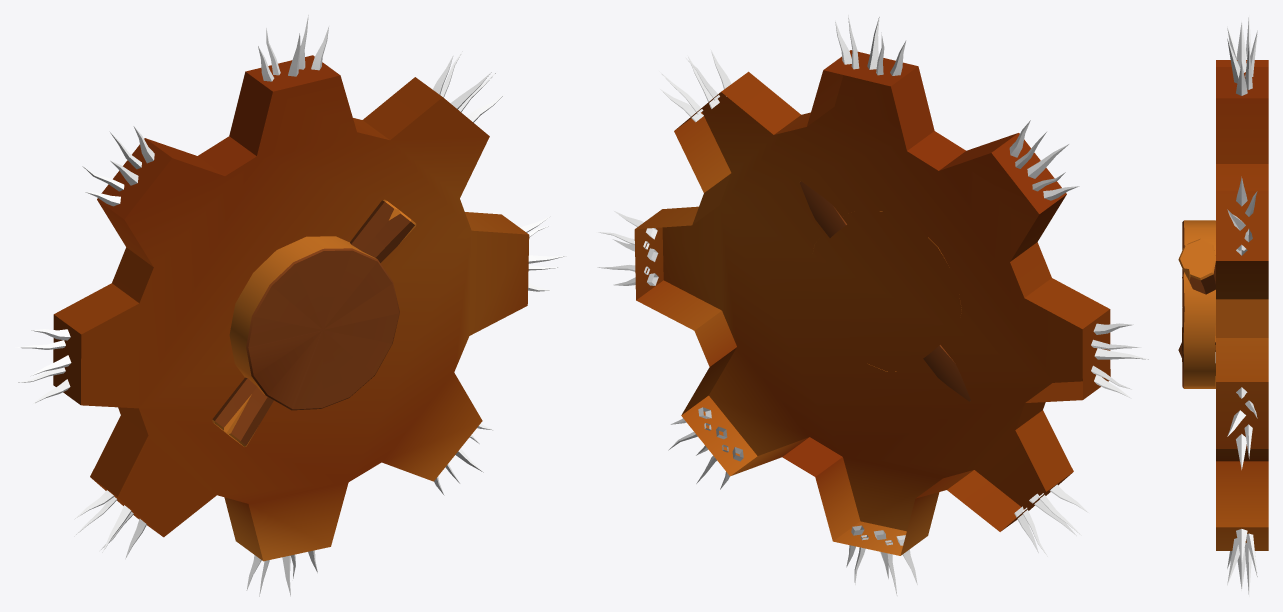
Rendered from Engranage.FBX.
3 renders of one model, left to right at view 1: azimuth 30°, elevation 25°; view 2: azimuth 150°, elevation 25°; view 3: azimuth 270°, elevation 25°, orthographic. The views are drawn at different scales.
Visible parts, largest first — view 1: Engranaje; view 2: Engranaje; view 3: Engranaje.
Part boxes in pixels (left/top/right/bottom): Engranaje: left=15, top=15, right=567, bottom=596; Engranaje: left=597, top=15, right=1148, bottom=596; Engranaje: left=1178, top=15, right=1268, bottom=596.
Size of what is drawn, in the model's own units: 1501 by 1501 by 225.
